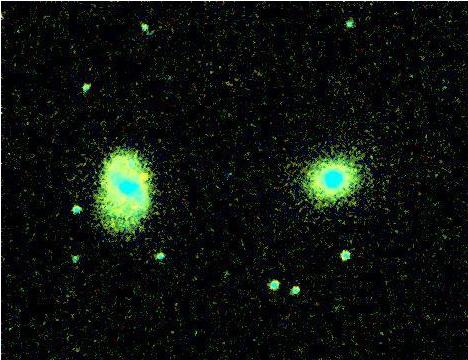star: (127, 159, 157, 189)
